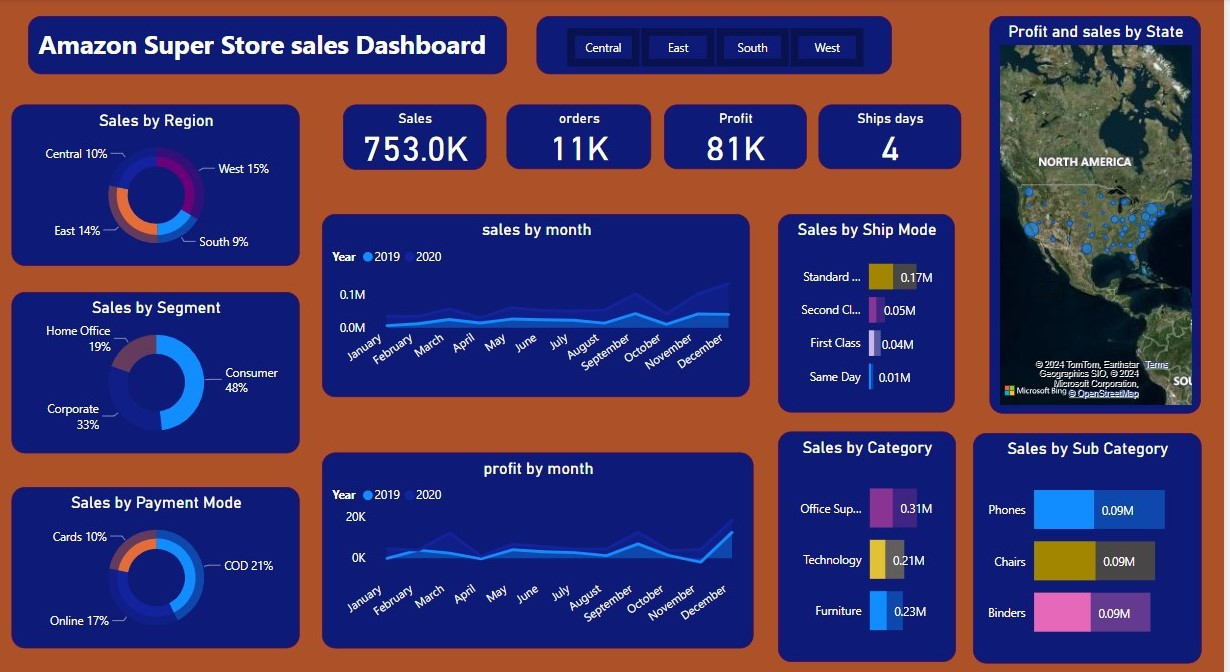

The dashboard page shown, as its layout file describes it:
{"tool":"powerbi","page":{"name":"Page 1","canvas":[1280,720],"ordinal":0},"visuals":[{"type":"clusteredBarChart","title":" Sales by Category","fields":{"Category":["SuperStore_Sales_Dataset.Category"],"Y":["Sum(SuperStore_Sales_Dataset.Sales)"]},"box":[815.6,451.2,185,239.8],"z":0},{"type":"clusteredBarChart","title":" Sales by Sub Category","fields":{"Category":["SuperStore_Sales_Dataset.Sub-Category"],"Y":["Sum(SuperStore_Sales_Dataset.Sales)"]},"box":[1017.6,453.1,237.9,239.8],"z":1000},{"type":"clusteredBarChart","title":" Sales by Ship Mode","fields":{"Category":["SuperStore_Sales_Dataset.Ship Mode"],"Y":["Sum(SuperStore_Sales_Dataset.Sales)"]},"box":[815.7,225.6,184.2,206.8],"z":2000},{"type":"stackedAreaChart","title":"sales by month","fields":{"Y":["Sum(SuperStore_Sales_Dataset.Sales)"],"Category":["SuperStore_Sales_Dataset.Order Date.Variation.Date Hierarchy.Month","SuperStore_Sales_Dataset.Order Date.Variation.Date Hierarchy.Day"],"Series":["SuperStore_Sales_Dataset.Order Date.Variation.Date Hierarchy.Year"]},"box":[339.8,224.7,445.5,190.7],"z":3000},{"type":"stackedAreaChart","title":"profit by month","fields":{"Category":["SuperStore_Sales_Dataset.Order Date.Variation.Date Hierarchy.Month","SuperStore_Sales_Dataset.Order Date.Variation.Date Hierarchy.Day"],"Series":["SuperStore_Sales_Dataset.Order Date.Variation.Date Hierarchy.Year"],"Y":["Sum(SuperStore_Sales_Dataset.Profit)"]},"box":[339.8,473.9,449.3,203.9],"z":4000},{"type":"map","title":" Profit and sales by State","fields":{"Category":["SuperStore_Sales_Dataset.State"],"Size":["Sum(SuperStore_Sales_Dataset.Sales)"]},"box":[1035.5,18.7,220.2,413.9],"z":5000},{"type":"donutChart","title":" Sales by Segment","fields":{"Category":["SuperStore_Sales_Dataset.Segment"],"Y":["Sum(SuperStore_Sales_Dataset.Sales)"]},"box":[17,305.8,300.2,168],"z":6000},{"type":"donutChart","title":" Sales by Payment Mode","fields":{"Category":["SuperStore_Sales_Dataset.Payment Mode"],"Y":["Sum(SuperStore_Sales_Dataset.Sales)"]},"box":[17,509.7,300.2,168],"z":7000},{"type":"slicer","fields":{"Values":["SuperStore_Sales_Dataset.Region"]},"box":[563.8,18.7,370.2,60.9],"z":8000},{"type":"textbox","box":[34,18.9,498.4,60.4],"z":9000},{"type":"card","title":"Sales","fields":{"Values":["Sum(SuperStore_Sales_Dataset.Sales)"]},"box":[362.5,111.4,149.1,68],"z":10000},{"type":"card","title":"orders","fields":{"Values":["Sum(SuperStore_Sales_Dataset.Quantity)"]},"box":[531.9,110.9,150.4,67.7],"z":11000},{"type":"card","title":"Profit","fields":{"Values":["Sum(SuperStore_Sales_Dataset.Profit)"]},"box":[697.3,110.9,148.5,67.7],"z":12000},{"type":"card","title":"Ships days","fields":{"Values":["Avg(SuperStore_Sales_Dataset.AvgDelivery)"]},"box":[857.1,110.9,148.5,67.7],"z":13000},{"type":"donutChart","title":" Sales by Region","fields":{"Y":["Sum(SuperStore_Sales_Dataset.Sales)"],"Category":["SuperStore_Sales_Dataset.Region"]},"box":[17,111.4,300.2,168],"z":14000}]}

Visuals, with their boxes in screenshot pixels (x1, y1, x2, y2), scaled from the page's 1280x720 canvas onto the 1230x672 screenshot:
" Sales by Category" clusteredBarChart: x1=784 y1=421 x2=962 y2=645
" Sales by Sub Category" clusteredBarChart: x1=978 y1=423 x2=1206 y2=647
" Sales by Ship Mode" clusteredBarChart: x1=784 y1=211 x2=961 y2=404
"sales by month" stackedAreaChart: x1=327 y1=210 x2=755 y2=388
"profit by month" stackedAreaChart: x1=327 y1=442 x2=758 y2=633
" Profit and sales by State" map: x1=995 y1=17 x2=1207 y2=404
" Sales by Segment" donutChart: x1=16 y1=285 x2=305 y2=442
" Sales by Payment Mode" donutChart: x1=16 y1=476 x2=305 y2=633
slicer - SuperStore_Sales_Dataset.Region: x1=542 y1=17 x2=898 y2=74
textbox: x1=33 y1=18 x2=512 y2=74
"Sales" card: x1=348 y1=104 x2=492 y2=167
"orders" card: x1=511 y1=104 x2=656 y2=167
"Profit" card: x1=670 y1=104 x2=813 y2=167
"Ships days" card: x1=824 y1=104 x2=966 y2=167
" Sales by Region" donutChart: x1=16 y1=104 x2=305 y2=261
